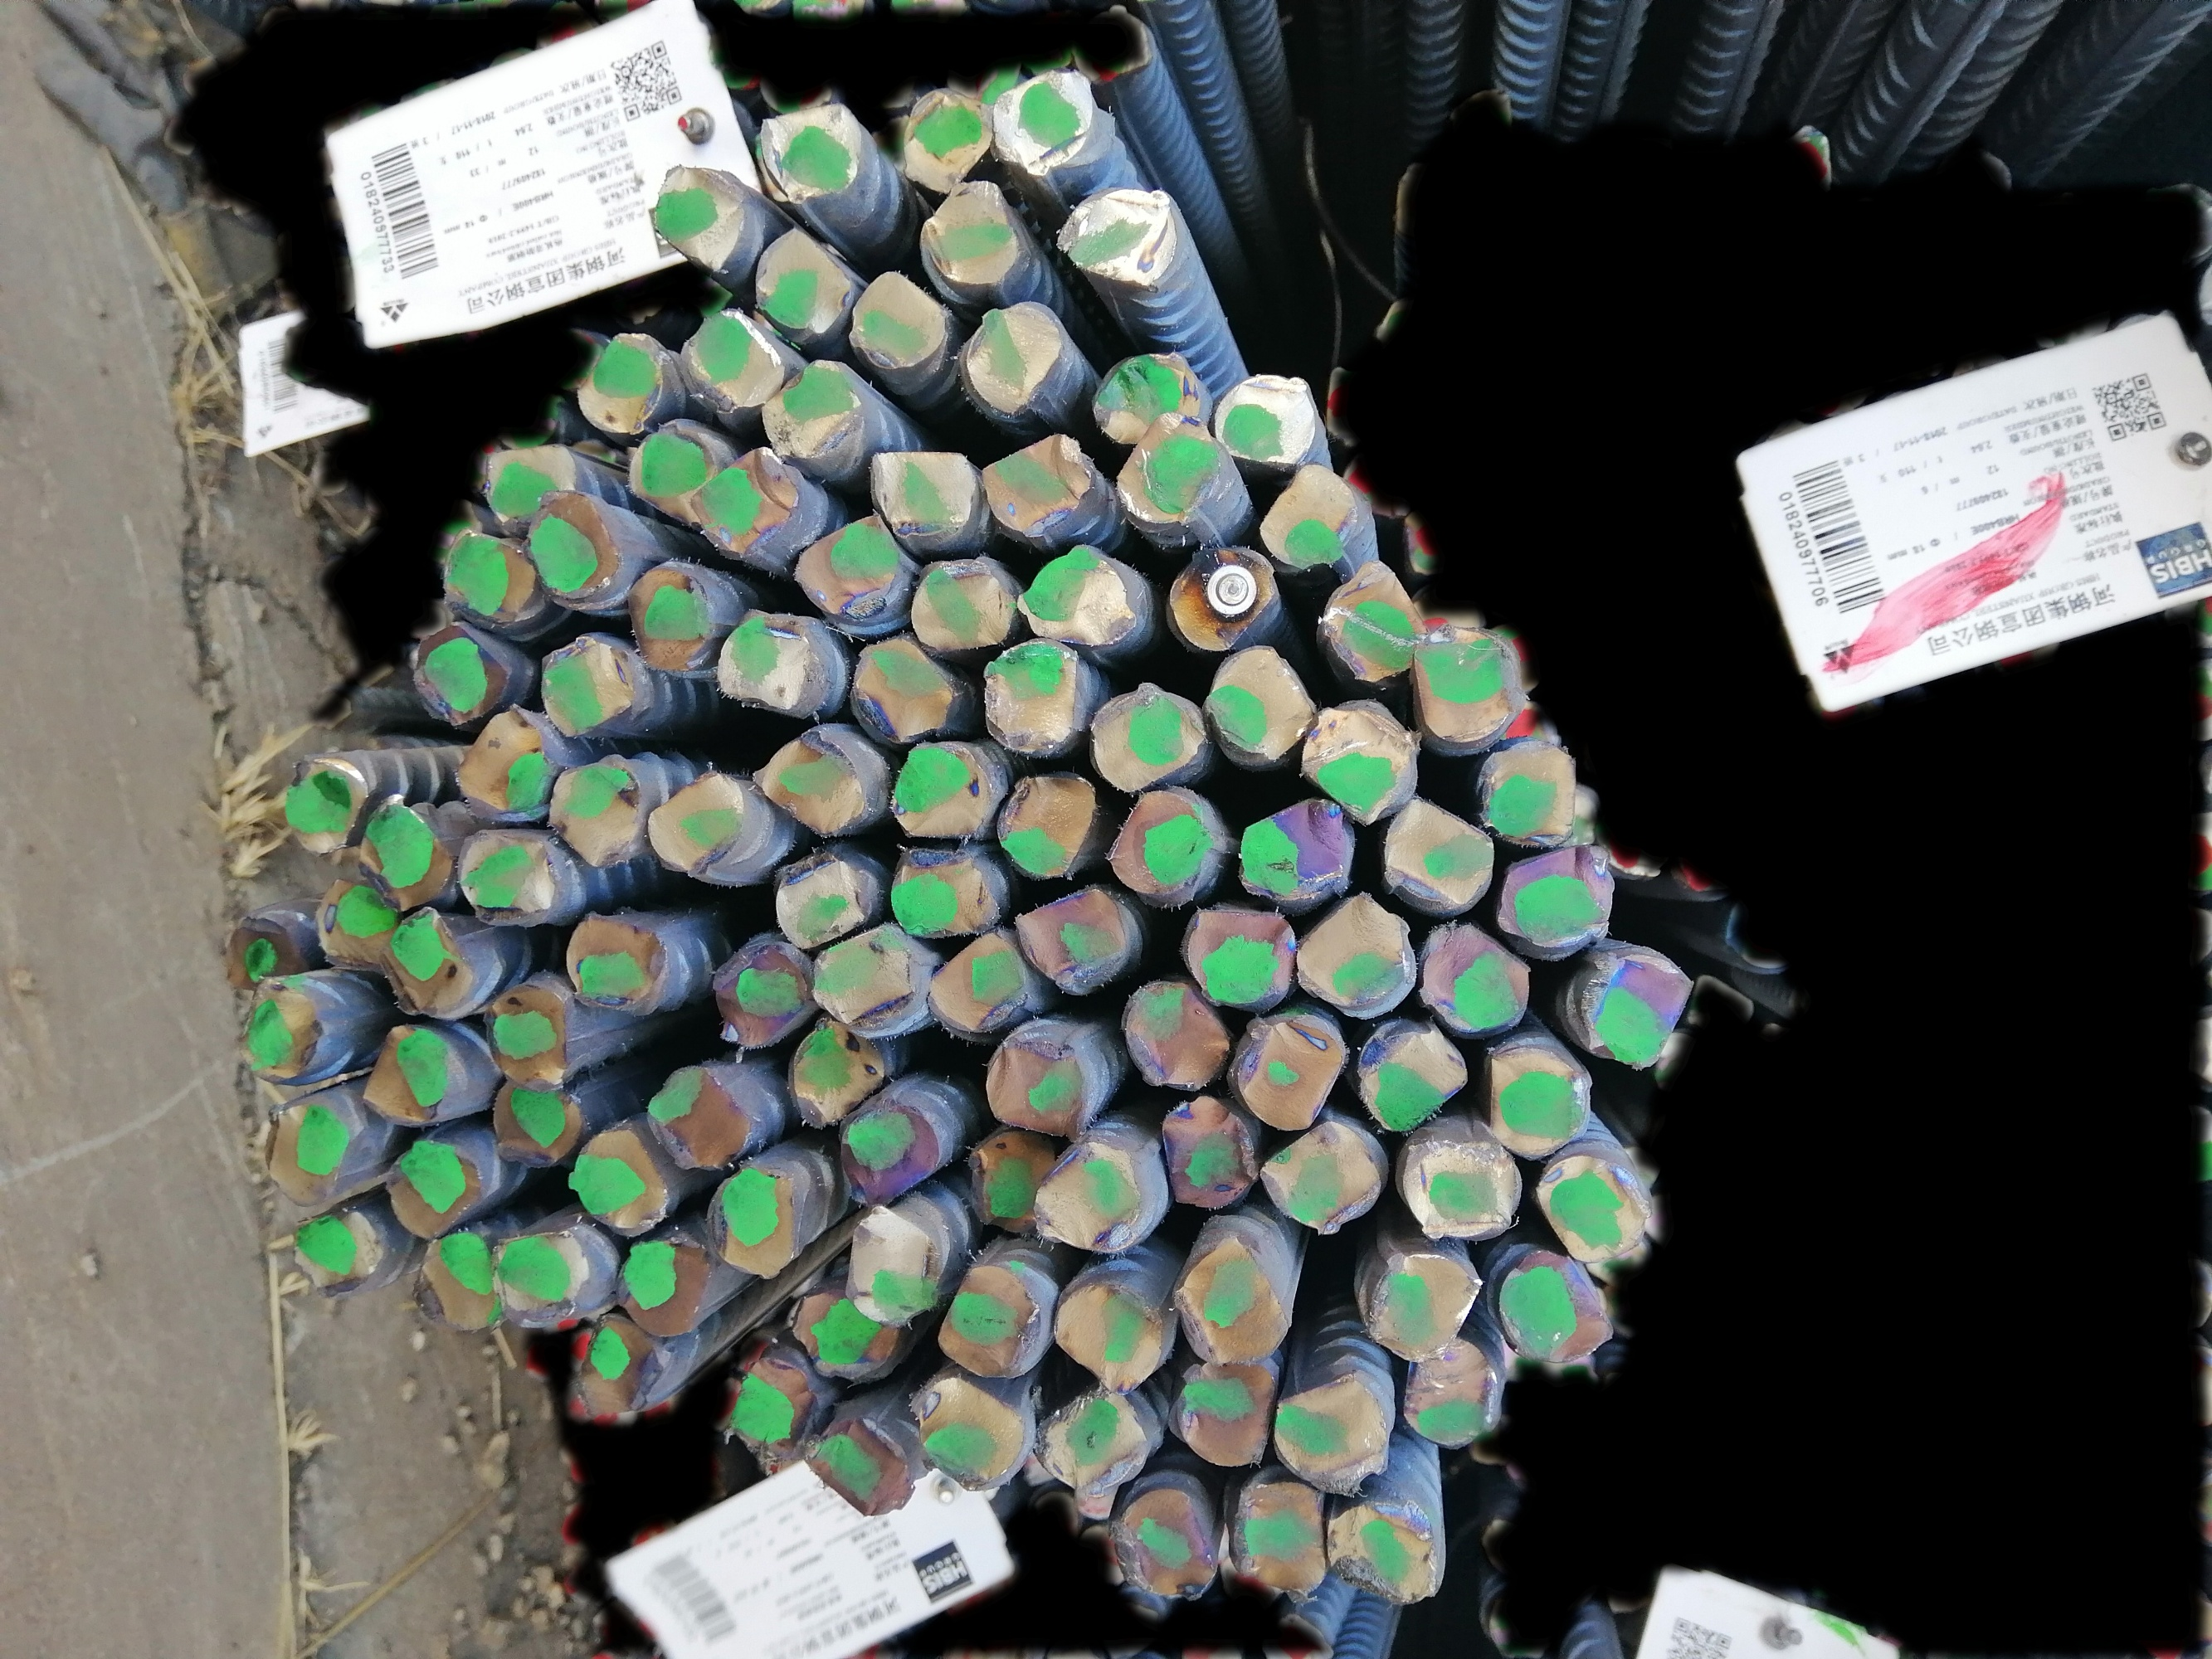rebar: (1170, 1232, 1295, 1366), (1496, 1248, 1623, 1375), (1267, 1370, 1400, 1492), (1257, 1110, 1386, 1234), (1297, 889, 1417, 1021), (1232, 1004, 1353, 1133), (905, 1371, 1028, 1495), (1025, 1138, 1152, 1256), (983, 1012, 1103, 1136), (1089, 676, 1210, 798), (1367, 1237, 1480, 1366), (1297, 704, 1419, 823), (1060, 178, 1182, 295), (1055, 1270, 1168, 1396), (800, 1401, 919, 1520), (1410, 626, 1525, 748), (1114, 406, 1225, 532), (1492, 847, 1621, 955), (1403, 1126, 1520, 1244), (976, 636, 1091, 756), (1321, 1495, 1443, 1608), (751, 723, 868, 840), (1318, 559, 1424, 687), (1020, 540, 1138, 653), (920, 920, 1034, 1039), (1377, 795, 1496, 908), (1236, 795, 1356, 906), (1110, 1478, 1218, 1601), (750, 96, 865, 211), (1419, 918, 1532, 1035), (453, 699, 565, 817), (1485, 1044, 1597, 1162), (934, 1260, 1042, 1382), (675, 303, 788, 418), (718, 608, 831, 723), (1016, 878, 1128, 995), (1168, 1354, 1279, 1471), (1354, 1023, 1471, 1134), (962, 296, 1072, 415), (1121, 974, 1231, 1093), (1475, 730, 1584, 849), (1227, 1480, 1330, 1605), (861, 443, 980, 551), (1034, 1387, 1152, 1495), (349, 798, 455, 918), (966, 1126, 1069, 1249), (793, 511, 906, 622), (699, 1164, 809, 1279), (812, 920, 922, 1035), (567, 1122, 675, 1239), (891, 838, 1008, 946), (980, 427, 1096, 535), (1201, 645, 1307, 763), (781, 1014, 885, 1134), (1588, 948, 1693, 1068), (1537, 1152, 1649, 1263), (370, 906, 476, 1023), (1180, 901, 1297, 1007), (772, 842, 892, 945), (1400, 1331, 1503, 1452), (692, 443, 802, 554), (831, 1093, 940, 1206), (1105, 791, 1218, 899), (748, 223, 852, 340), (356, 1014, 458, 1133), (711, 938, 814, 1056), (521, 486, 622, 606), (760, 352, 868, 464), (1170, 538, 1278, 650), (919, 179, 1023, 295), (992, 765, 1100, 875), (1095, 342, 1204, 450), (992, 66, 1098, 178), (1157, 1096, 1260, 1211), (650, 155, 751, 272), (256, 1096, 357, 1213), (847, 1204, 945, 1324), (643, 767, 746, 880), (235, 972, 331, 1093), (851, 633, 957, 741), (621, 556, 715, 678), (1260, 458, 1365, 568), (1211, 366, 1318, 472), (612, 1232, 716, 1340), (570, 1310, 675, 1419), (647, 1060, 750, 1169), (847, 263, 948, 375), (887, 741, 995, 843), (788, 1284, 901, 1382), (903, 82, 999, 197), (540, 631, 640, 741), (910, 552, 1013, 657), (567, 910, 668, 1016), (547, 753, 640, 866), (282, 1201, 383, 1304), (486, 1229, 587, 1331), (383, 1136, 483, 1239), (622, 411, 722, 512), (446, 523, 539, 631), (580, 329, 671, 439), (455, 829, 554, 929), (478, 437, 582, 532), (483, 985, 575, 1091), (408, 1230, 504, 1331), (488, 1070, 584, 1169), (422, 615, 506, 725), (729, 1349, 818, 1452), (284, 751, 370, 852), (310, 878, 401, 969), (225, 911, 300, 988)
